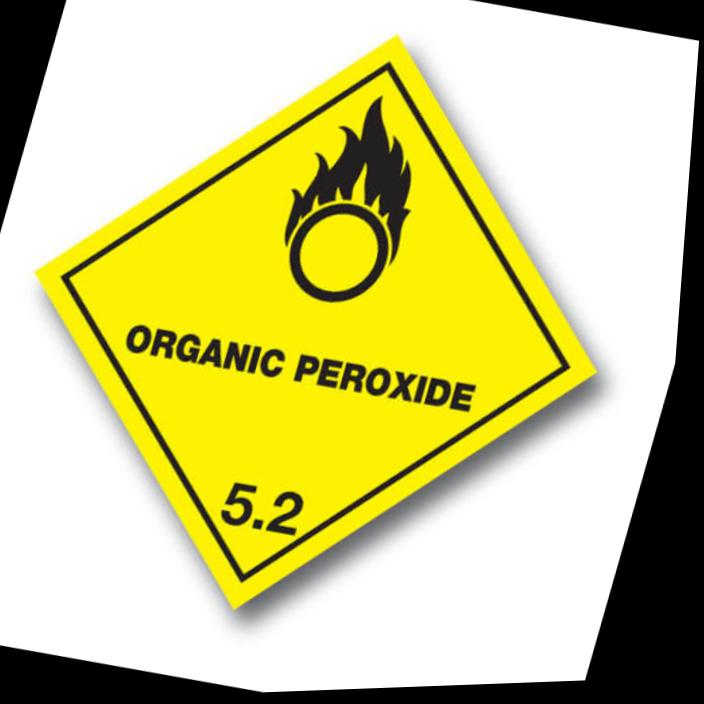defibrillator sign: (39, 38, 593, 606)
